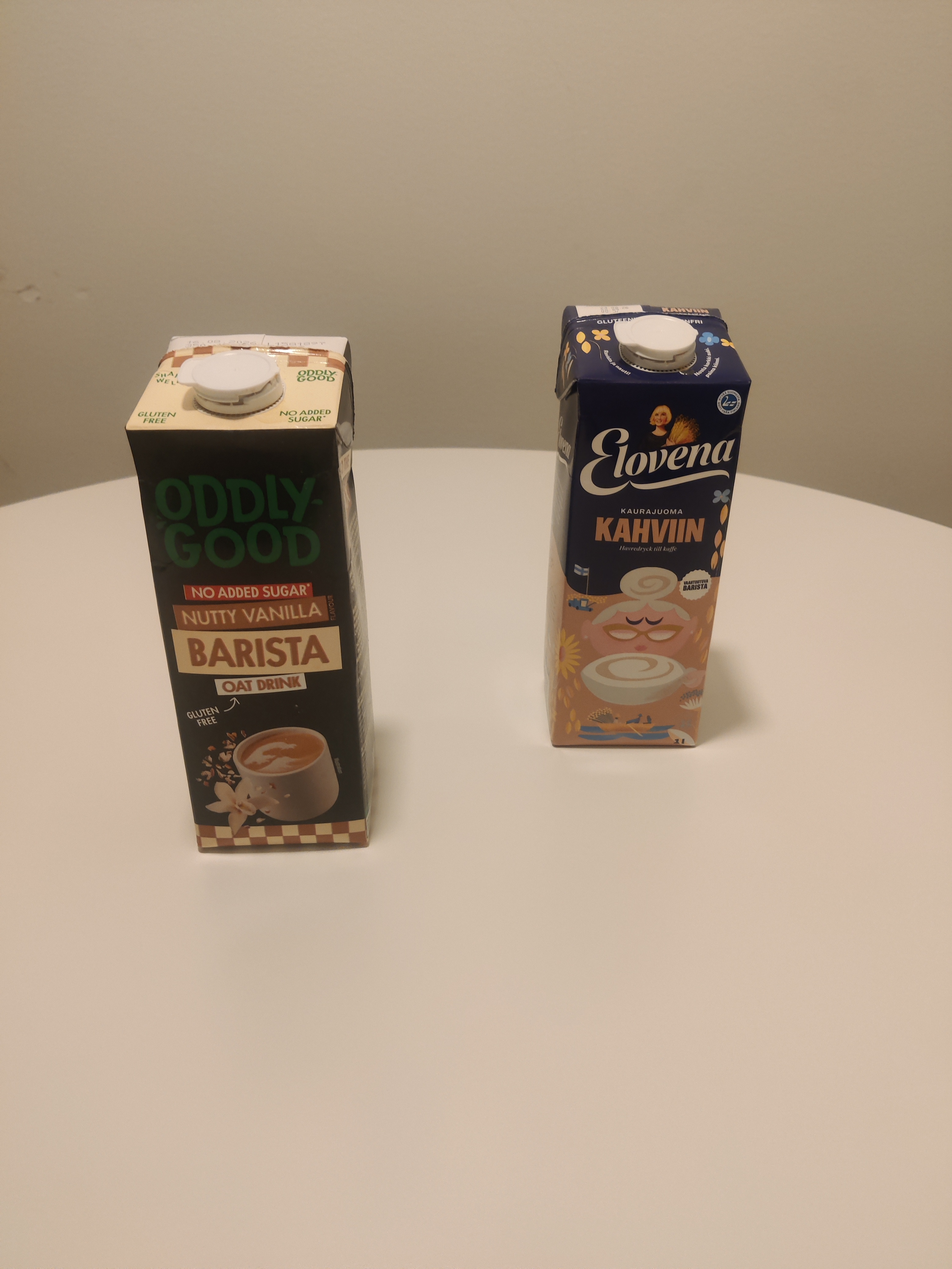Dryckeskartong: (124, 334, 382, 854), (537, 304, 757, 750)
